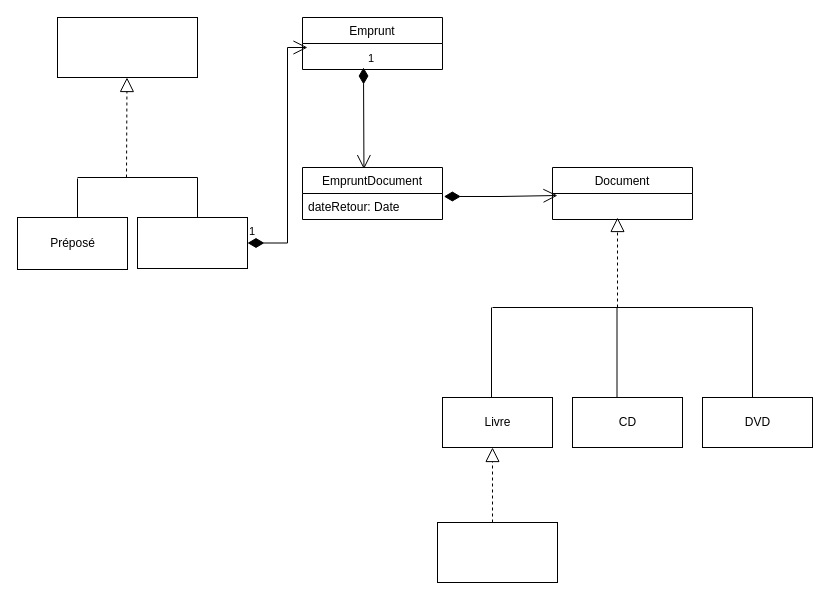
Some shapes in this 830 by 600 pixel diagram are drawn without their labels. The shapes that lost their labels are listed below. From the top down, each one's centre as x and y in pixels, then its label:
the point at 127,47: Utilisateur
the point at 192,242: Client
the point at 497,552: Manuel Scolaire
